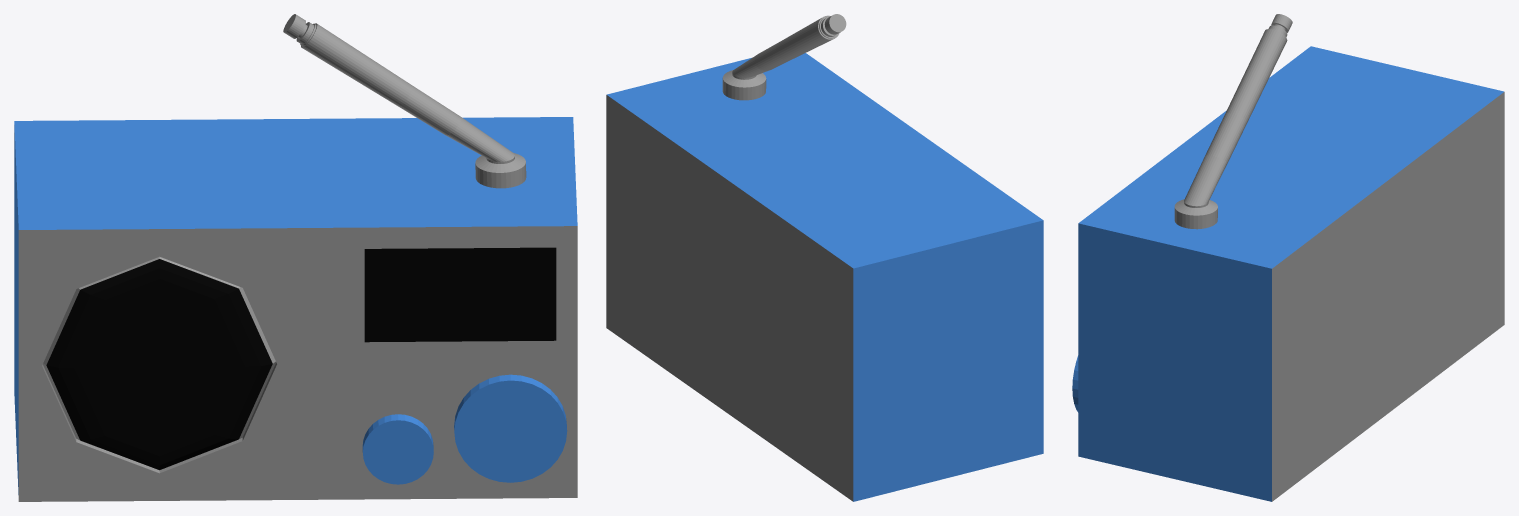
File: Radio.fbx
3 renders of one model, left to right at view 1: azimuth 30°, elevation 25°; view 2: azimuth 150°, elevation 25°; view 3: azimuth 270°, elevation 25°, orthographic. The views are drawn at different scales.
Visible parts, largest first — view 1: Radio.001; view 2: Radio.001; view 3: Radio.001.
Boxes of the visible parts, x1,y1,x2,y2 form: Radio.001: (14,14,577,501); Radio.001: (606,14,1043,501); Radio.001: (1072,14,1504,501).
Size of the model in its own units: 226 by 177 by 185.
